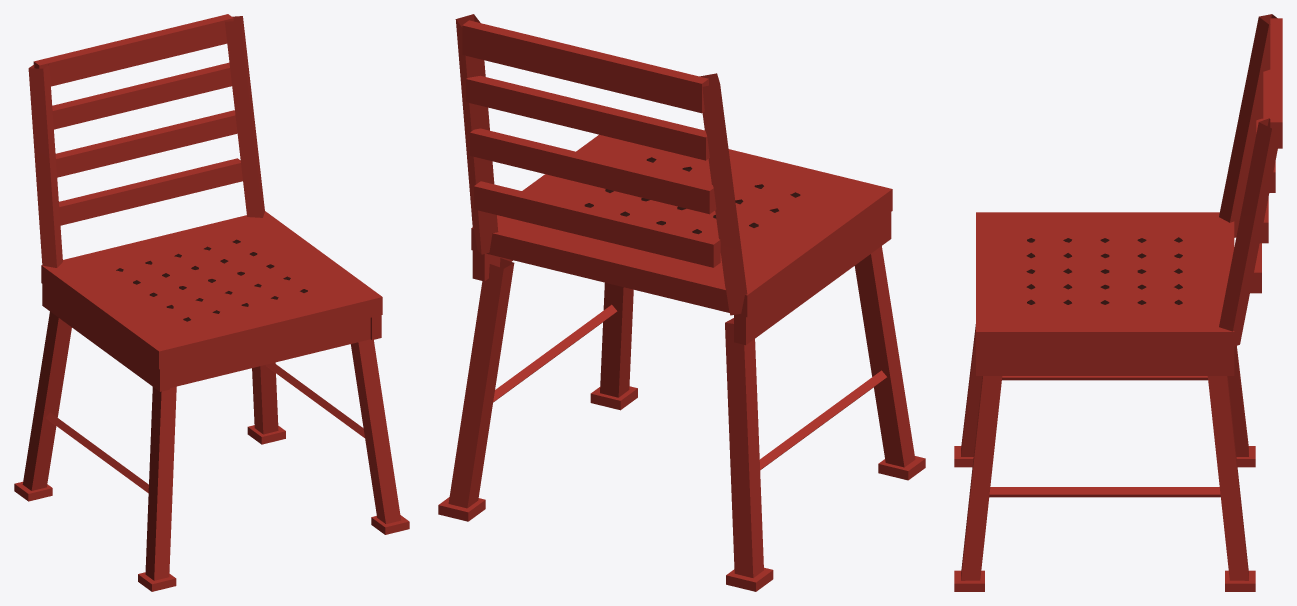
File: ghe_dua_nhua__do.glb
3 views of the same model, side by side, from view 1: azimuth 30°, elevation 25°; view 2: azimuth 150°, elevation 25°; view 3: azimuth 270°, elevation 25° (orthographic). The views are drawn at different scales.
Visible parts, largest first — view 1: ghe_dua_nhua__do; view 2: ghe_dua_nhua__do; view 3: ghe_dua_nhua__do.
Boxes of the visible parts, x1=… form: ghe_dua_nhua__do: x1=14, y1=14, x2=409, y2=591; ghe_dua_nhua__do: x1=438, y1=14, x2=925, y2=591; ghe_dua_nhua__do: x1=954, y1=14, x2=1282, y2=591.
Size of the model in its own units: 0.53 by 0.817 by 0.5337.
